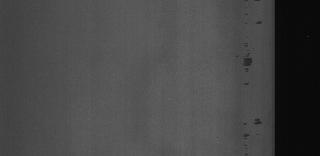oil spot: (241, 42, 255, 88), (253, 13, 267, 27), (255, 117, 263, 129), (242, 132, 252, 140)
